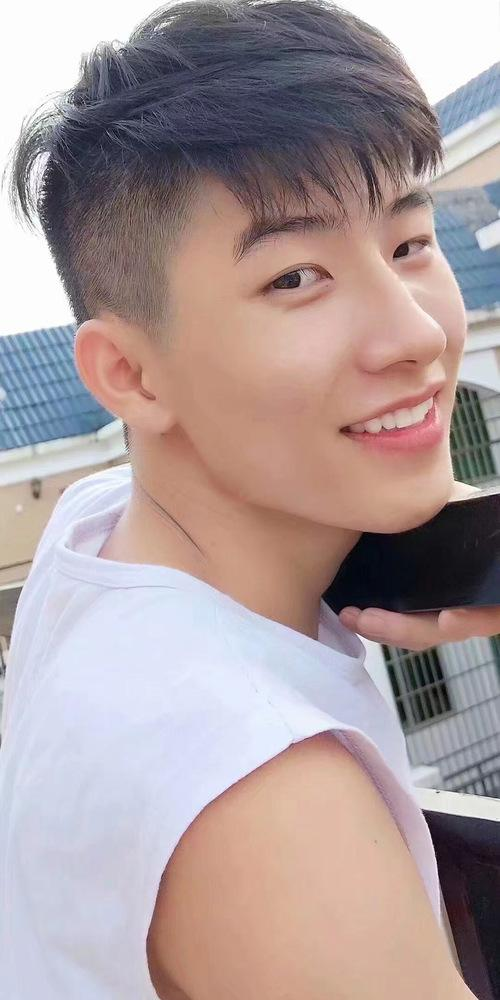person: (62, 30, 496, 1000)
